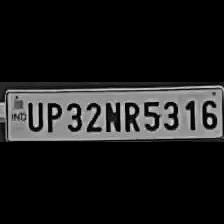1: (180, 96, 196, 130)
2: (82, 99, 102, 134)
3: (160, 97, 180, 131), (62, 100, 82, 132)
5: (140, 97, 160, 131)
6: (198, 96, 218, 128)
N: (102, 99, 120, 134)
P: (44, 99, 62, 134)
R: (120, 98, 140, 132)
U: (24, 97, 42, 130)
